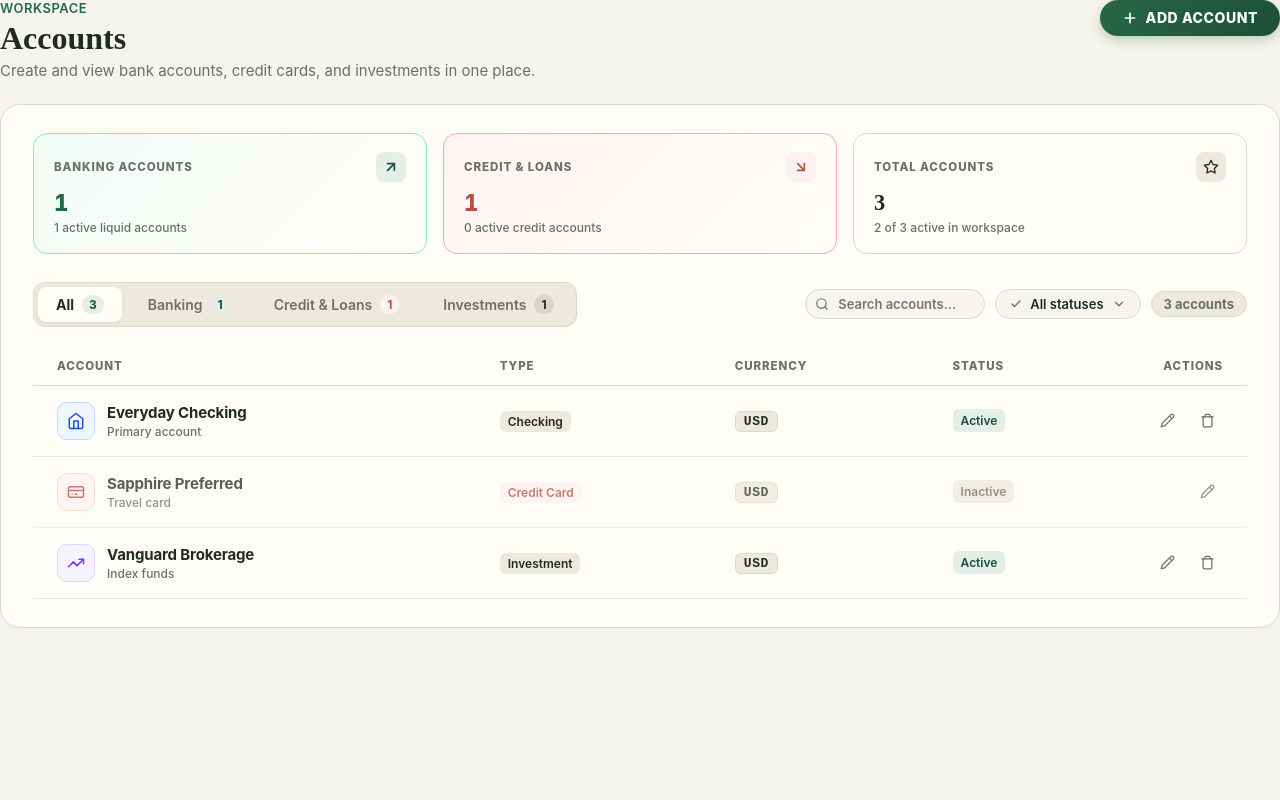
Test: AccountsView › opens Edit modal when Edit button in table is clicked
Click the button named "Edit Everyday Checking" at (1167, 421), box x1=1151 y1=405 x2=1183 y2=437
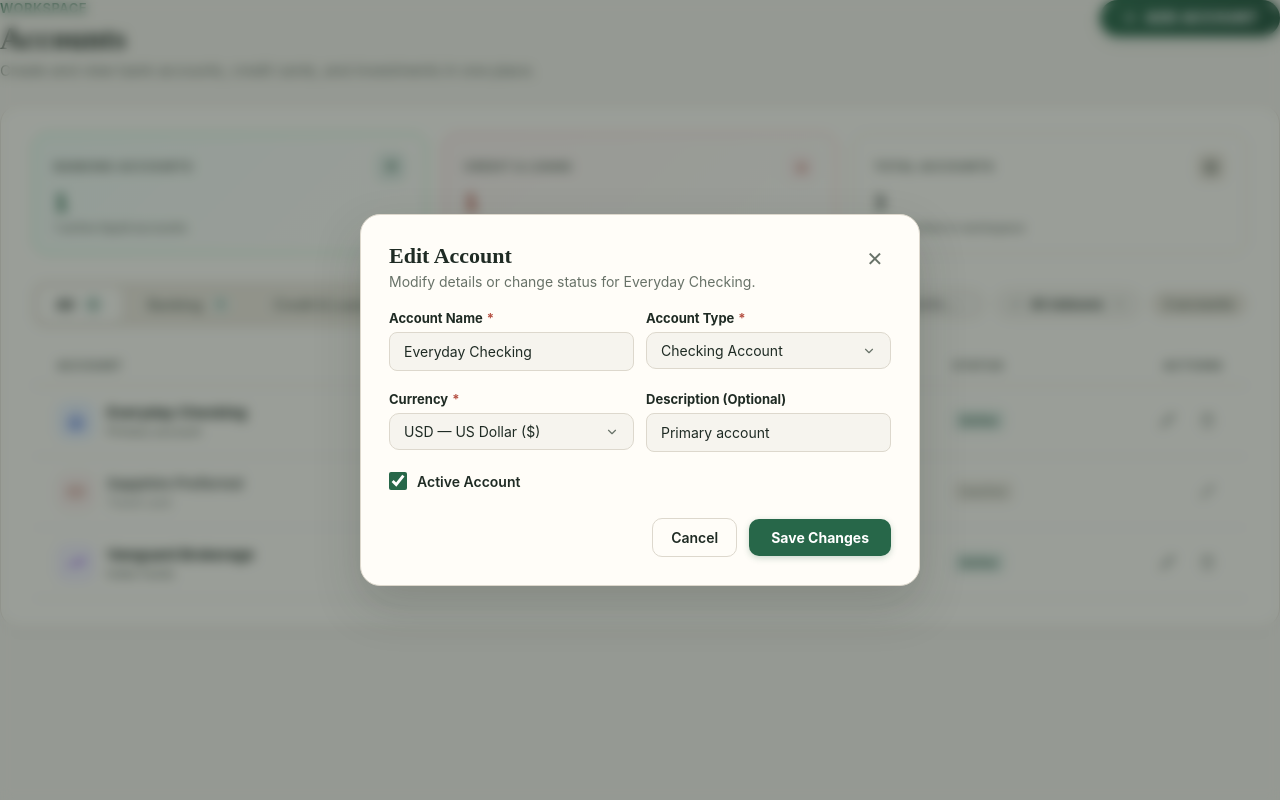
Expected: the dialog with test id "edit-account-modal" is shown, x1=360 y1=214 x2=920 y2=586
Expected: the heading "Edit Account" is shown, x1=389 y1=243 x2=512 y2=268
